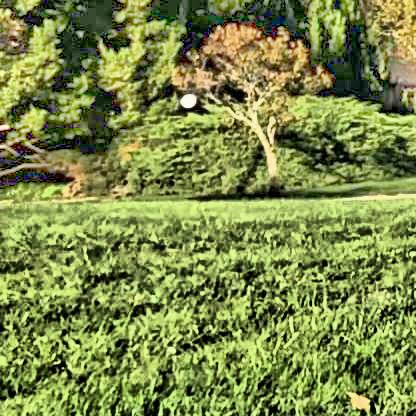golfball: (176, 90, 195, 107)
